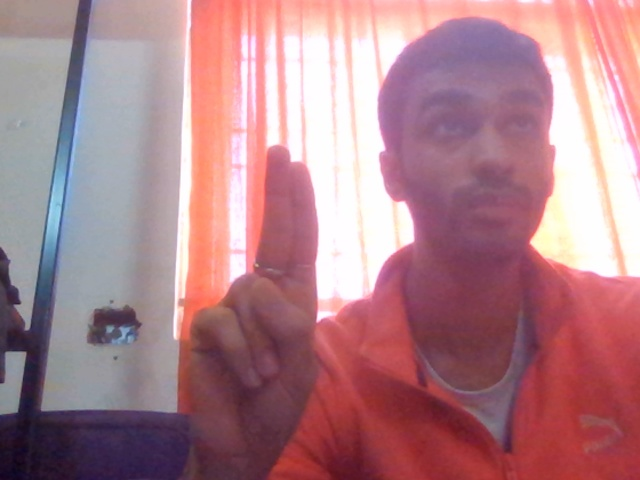U: (159, 124, 368, 480)
